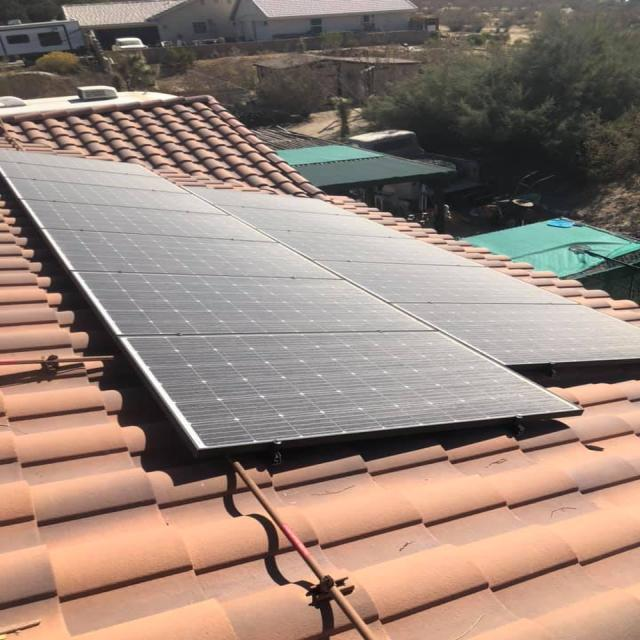dust-solar-panel: (0, 150, 640, 441)
